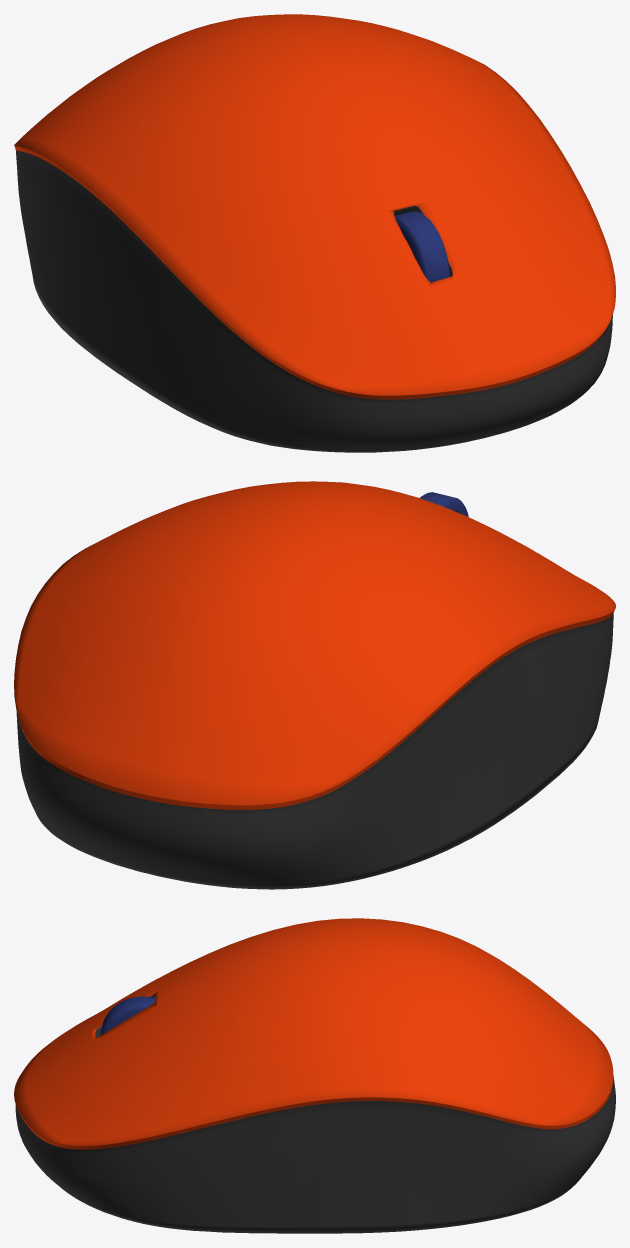
File: mouse.gltf
The picture shows the model from 3 angles, top to bottom: view 1: azimuth 30°, elevation 25°; view 2: azimuth 150°, elevation 25°; view 3: azimuth 270°, elevation 25°; orthographic projection. The views are drawn at different scales.
Parts seen in each view (by area): view 1: Cube; view 2: Cube; view 3: Cube.
Boxes of the visible parts, bbox=[...] form: Cube: bbox=[14, 14, 615, 452]; Cube: bbox=[14, 481, 615, 889]; Cube: bbox=[14, 918, 615, 1233].
Size of the model in its own units: 1.8 by 1.05 by 2.72.
